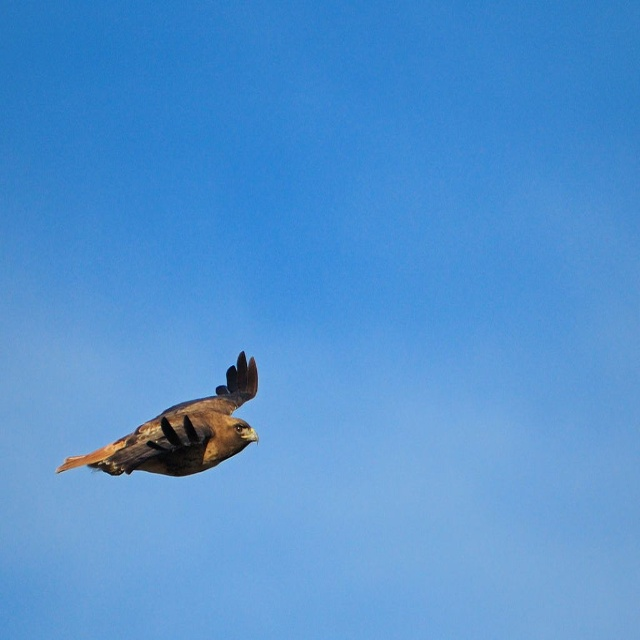Eagle: (56, 347, 261, 480)
